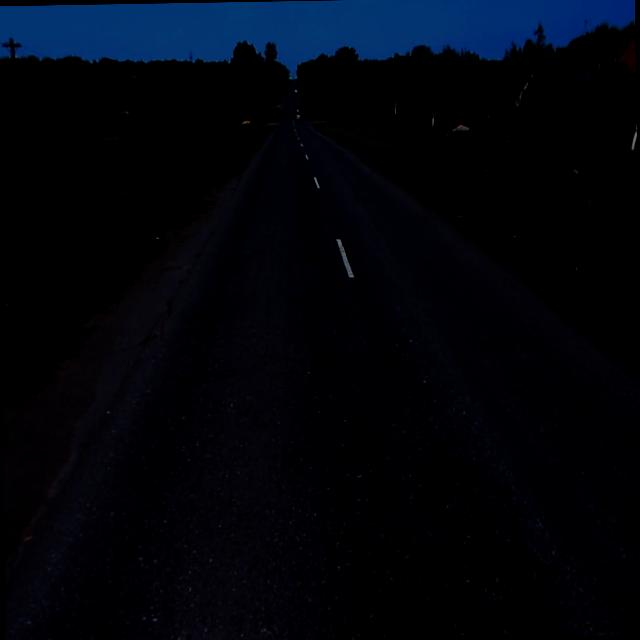road: (5, 81, 640, 640)
